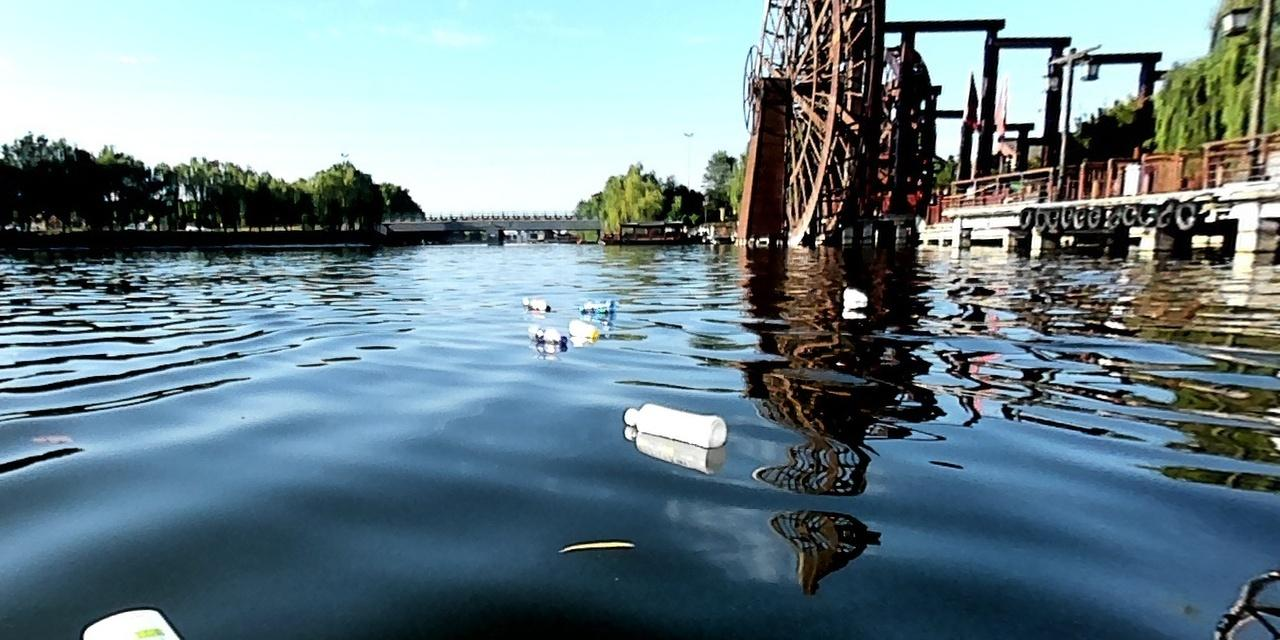bottle: (622, 398, 729, 449), (525, 319, 563, 344), (562, 314, 599, 338), (577, 295, 617, 314), (517, 293, 553, 313), (840, 286, 869, 303)
